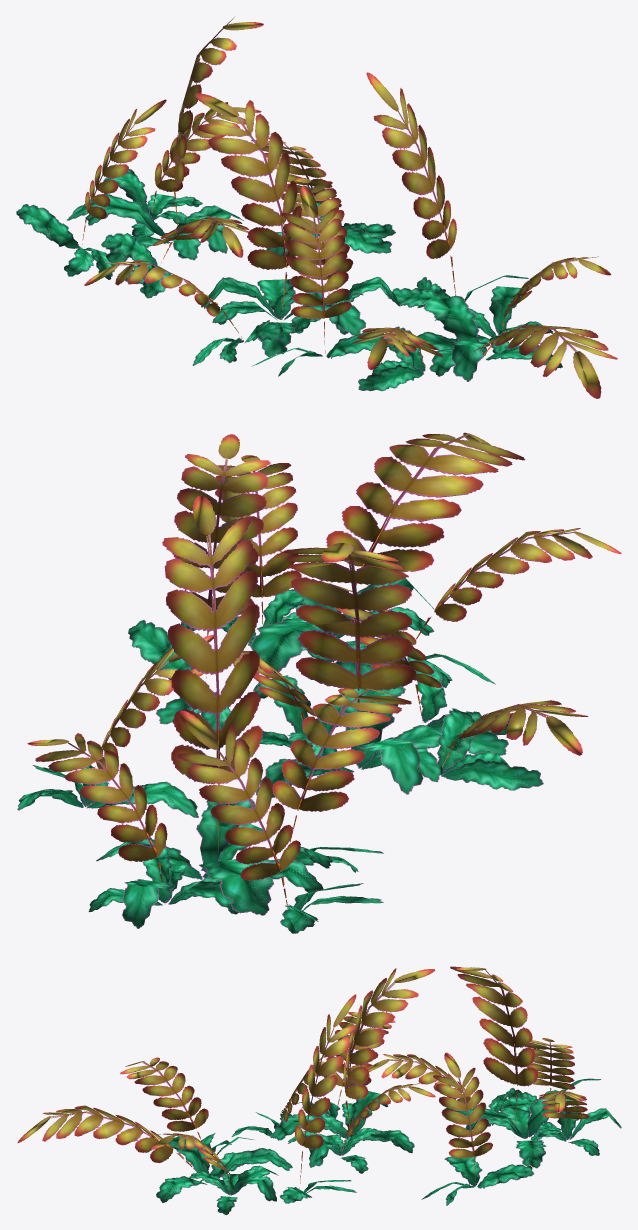
Rendered from n_SWFgogra01b.glb.
The picture shows the model from 3 angles, top to bottom: view 1: azimuth 30°, elevation 25°; view 2: azimuth 150°, elevation 25°; view 3: azimuth 270°, elevation 25°; orthographic projection. The views are drawn at different scales.
Visible parts, largest first — view 1: n_SWFgogra01b; view 2: n_SWFgogra01b; view 3: n_SWFgogra01b.
Part boxes in pixels (x1,y1,x2,y2): n_SWFgogra01b: (16,17,617,398); n_SWFgogra01b: (17,432,621,933); n_SWFgogra01b: (17,966,621,1215).
Bounding box in the file's own units: 1.94 × 1.11 × 3.23.
Materials: 4 (4 with a texture image).
